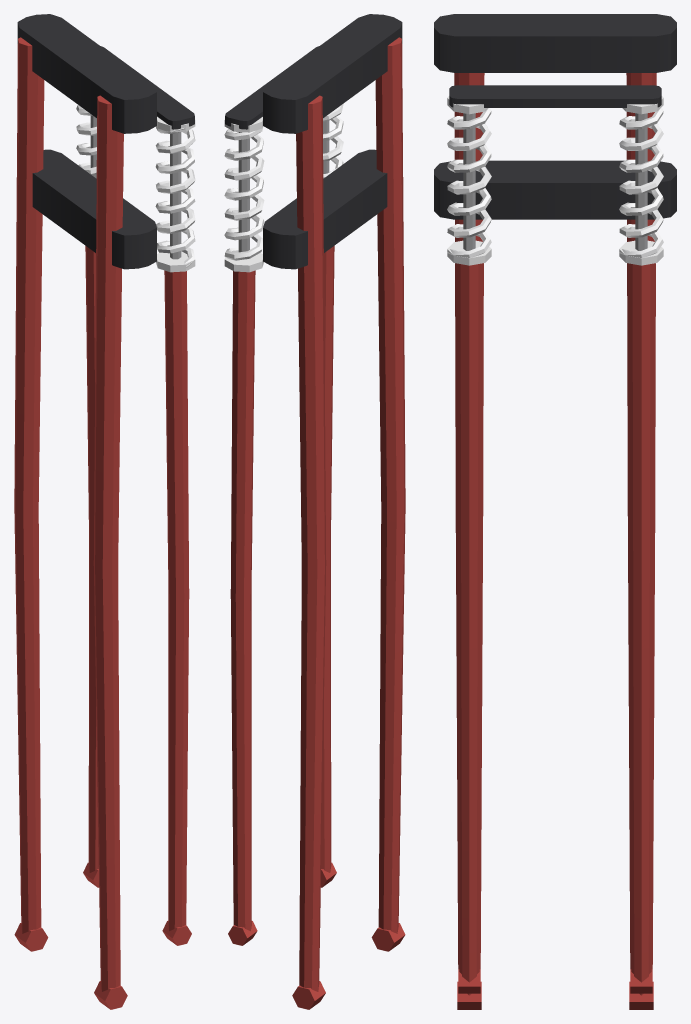
Rendered from chopper_springer_chrome_upper_lod1.glb.
3 views of the same model, side by side, from view 1: azimuth 30°, elevation 25°; view 2: azimuth 150°, elevation 25°; view 3: azimuth 270°, elevation 25° (orthographic). The views are drawn at different scales.
Parts seen in each view (by area): view 1: chopper_springer_chrome_upper_lod1; view 2: chopper_springer_chrome_upper_lod1; view 3: chopper_springer_chrome_upper_lod1.
Part boxes in pixels (<box>): chopper_springer_chrome_upper_lod1: <box>14,14,195,1009</box>; chopper_springer_chrome_upper_lod1: <box>224,14,405,1009</box>; chopper_springer_chrome_upper_lod1: <box>434,14,676,1009</box>.
Size of the model in its own units: 0.1217 by 1.08 by 0.24.
